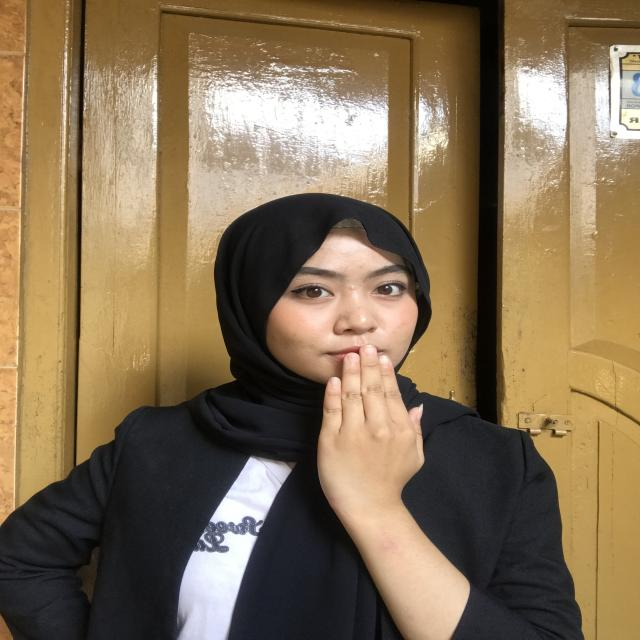ganteng: (306, 346, 444, 524)
